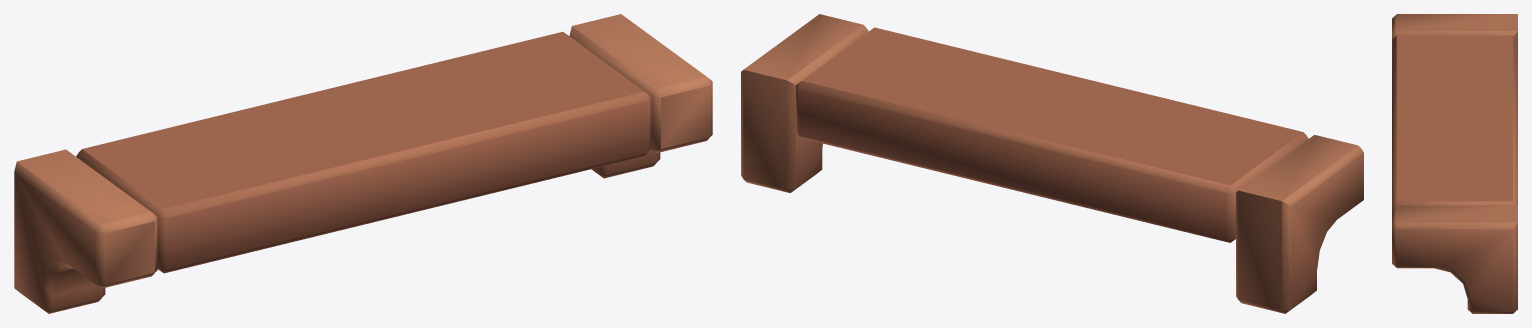
The model's file is wall-shelf.glb.
3 renders of one model, left to right at view 1: azimuth 30°, elevation 25°; view 2: azimuth 150°, elevation 25°; view 3: azimuth 270°, elevation 25°, orthographic. The views are drawn at different scales.
Parts seen in each view (by area): view 1: shelf_A_big; view 2: shelf_A_big; view 3: shelf_A_big.
Boxes of the visible parts, x1,y1,x2,y2 form: shelf_A_big: (14,14,712,313); shelf_A_big: (741,14,1363,313); shelf_A_big: (1392,14,1517,313).
Bounding box in the file's own units: 1.2 × 0.2399 × 0.3.
Materials: 1 (1 with a texture image).
